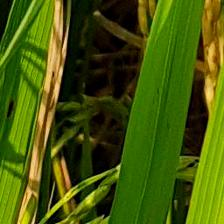2 BacterialBlight: (36, 3, 71, 159)
